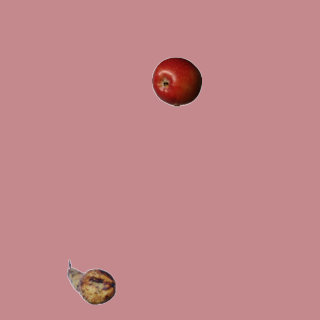Apple Braeburn: (151, 56, 201, 106)
Pear Abate: (66, 257, 116, 307)
